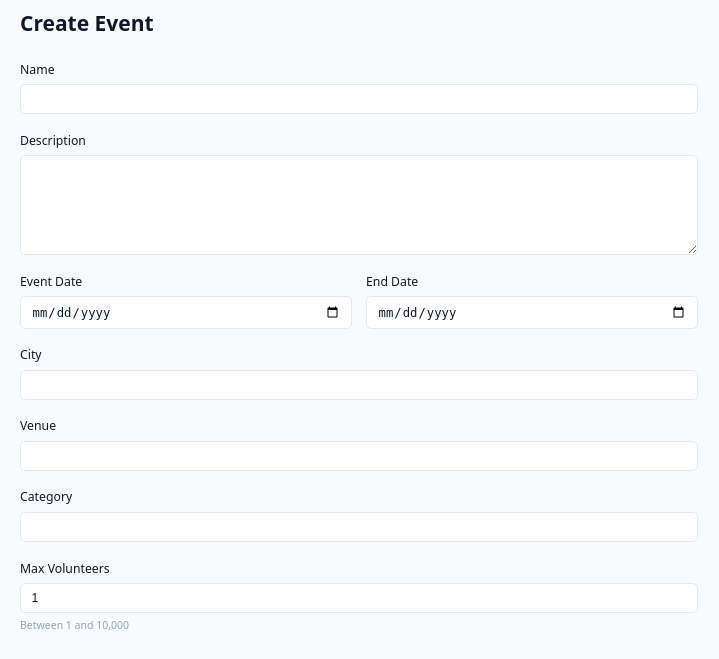
Test: EventCreateContent › form validation on blur › shows error for empty required fields on blur
The image size is (719, 659).
Click the field labelled "City": (359, 385) [20,370,698,400]
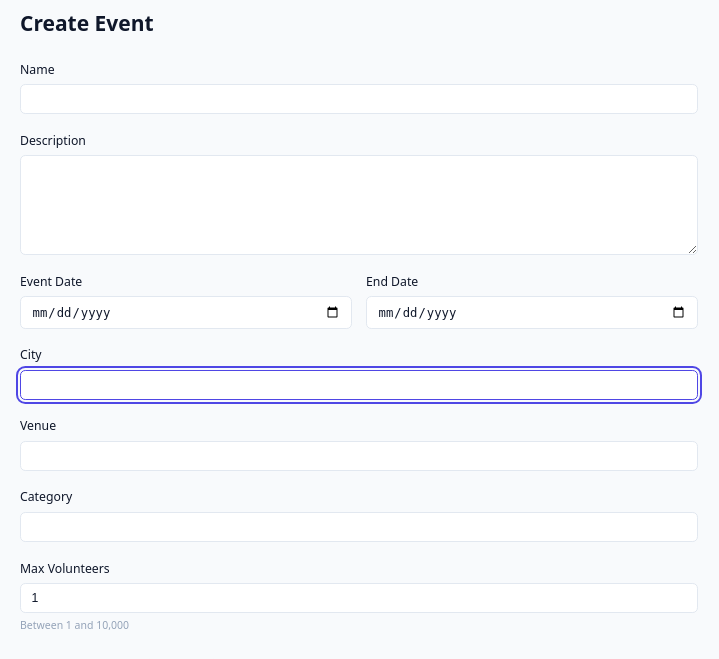
Press Tab
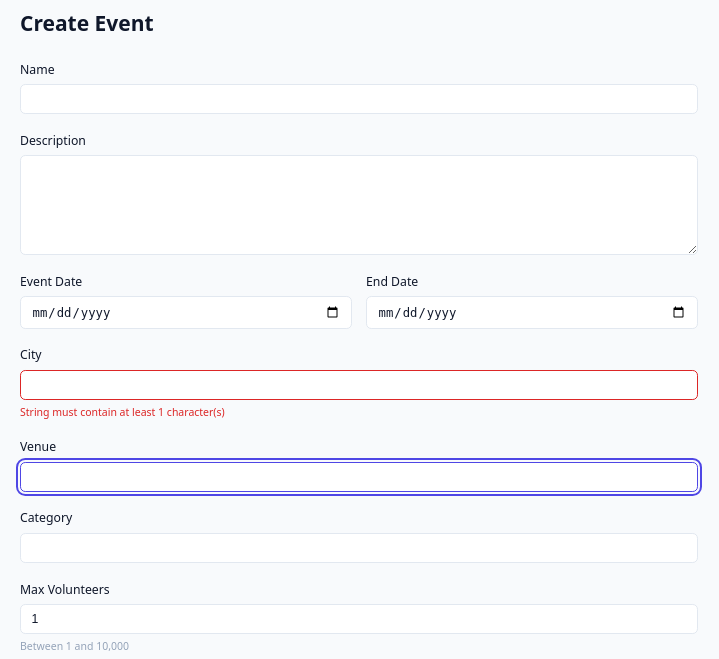
Result: the text "String must contain at least 1 character(s)" is shown at [20,405,225,419]
